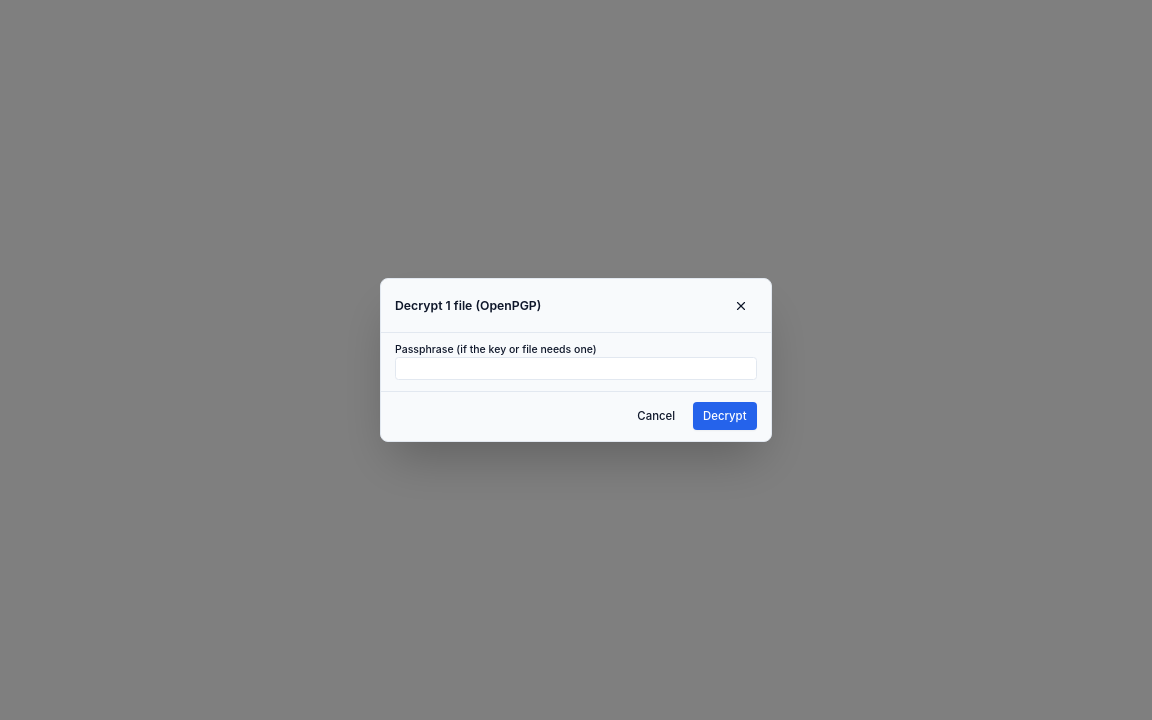
Test: GpgDialog › decrypts and reports the signature
The width and height of the screenshot is (1152, 720).
Click the button "Decrypt" at (725, 416), box [693,402,757,430]
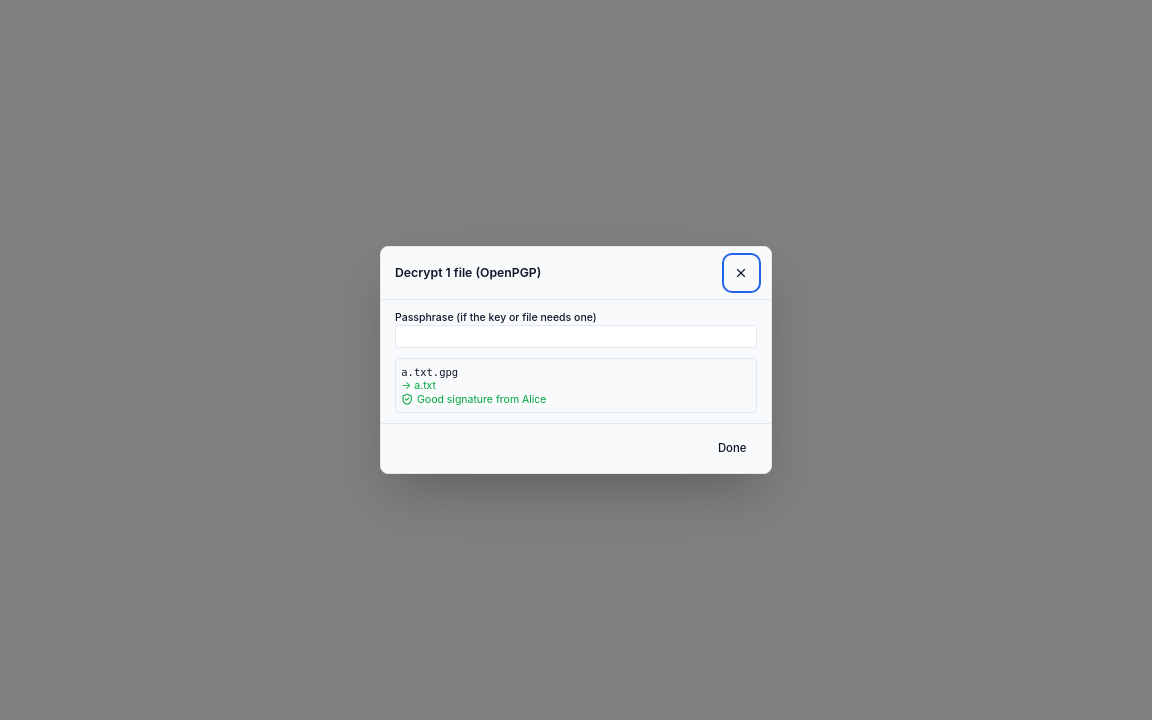
Check: the text "Good signature from Alice" is shown, box [417,392,546,406]
